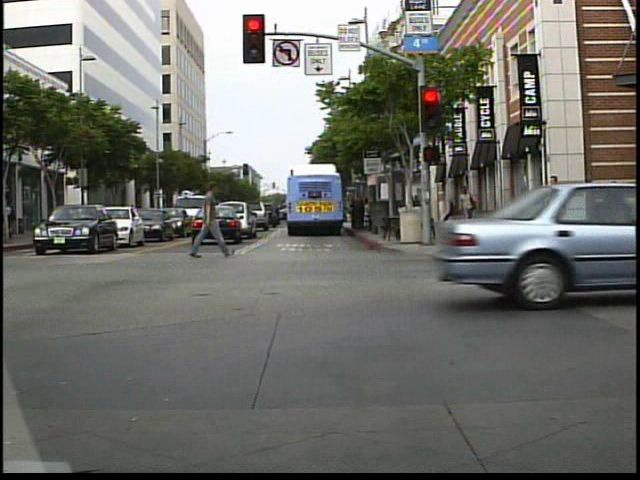person: (189, 178, 230, 263)
